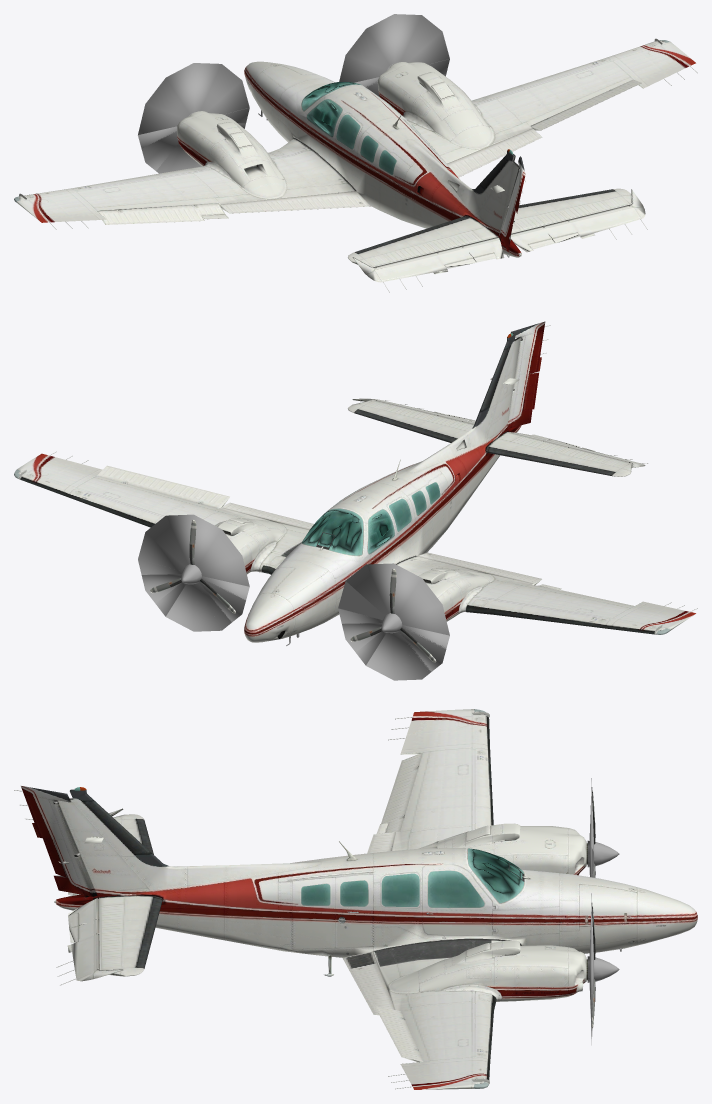
File: baron58.fbx
3 renders of one model, top to bottom at view 1: azimuth 30°, elevation 25°; view 2: azimuth 150°, elevation 25°; view 3: azimuth 270°, elevation 25°, orthographic. The views are drawn at different scales.
Parts seen in each view (by area): view 1: DSMesh_5_2, DSMesh_8_3, DSMesh_3_2; view 2: DSMesh_5_2, DSMesh_8_3, DSMesh_3_2, DSMesh_2_2; view 3: DSMesh_5_2, DSMesh_3_2, DSMesh_2_2, DSMesh_8_3.
Part boxes in pixels (x1,y1,x2,y2): DSMesh_5_2: [17, 38, 697, 292]; DSMesh_8_3: [138, 14, 449, 173]; DSMesh_3_2: [14, 40, 670, 255]; DSMesh_5_2: [17, 321, 697, 662]; DSMesh_8_3: [138, 514, 449, 680]; DSMesh_3_2: [14, 333, 670, 634]; DSMesh_2_2: [181, 564, 402, 645]; DSMesh_5_2: [14, 709, 697, 1089]; DSMesh_3_2: [54, 709, 524, 1088]; DSMesh_2_2: [587, 840, 621, 982]; DSMesh_8_3: [589, 778, 593, 1045].
Bounding box in the file's own units: 11.87 × 2.84 × 9.08.
2 materials, 1 textured.
